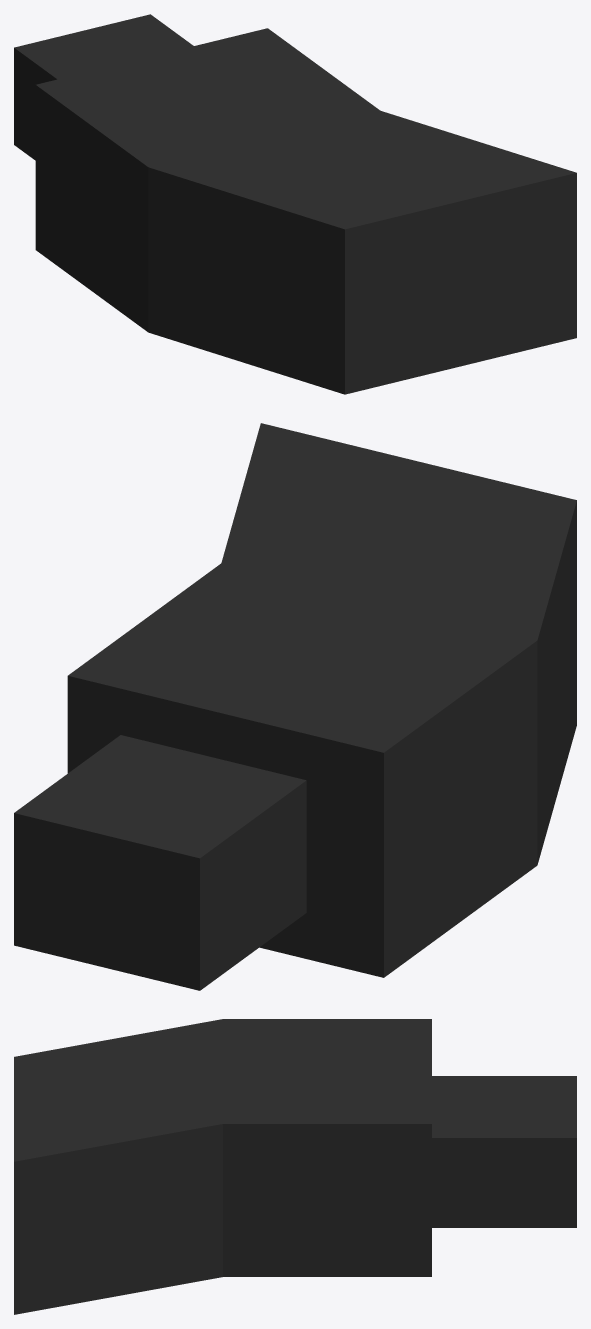
File: LMG3_05_3.fbx
The picture shows the model from 3 angles, top to bottom: view 1: azimuth 30°, elevation 25°; view 2: azimuth 150°, elevation 25°; view 3: azimuth 270°, elevation 25°; orthographic projection. The views are drawn at different scales.
Visible parts, largest first — view 1: LMG3_05_3; view 2: LMG3_05_3; view 3: LMG3_05_3.
Boxes of the visible parts, bbox=[...] form: LMG3_05_3: bbox=[14, 14, 576, 394]; LMG3_05_3: bbox=[14, 423, 576, 990]; LMG3_05_3: bbox=[14, 1019, 576, 1314].
Bounding box in the file's own units: 0.0153 × 0.00765 × 0.0255.
